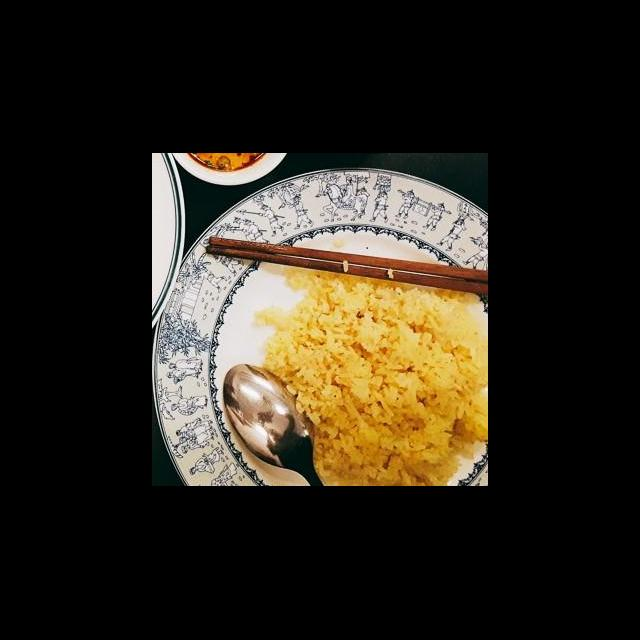com: (253, 262, 488, 486)
